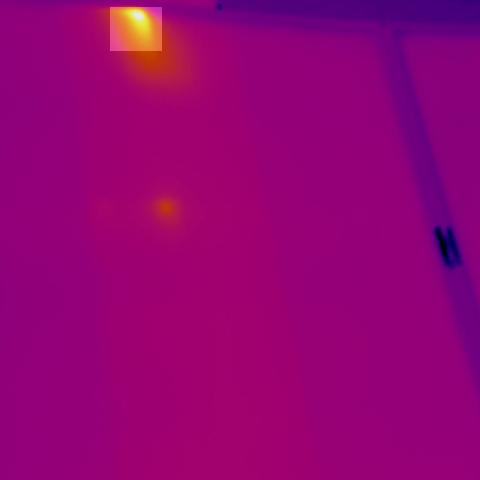fault: (110, 8, 162, 52)
